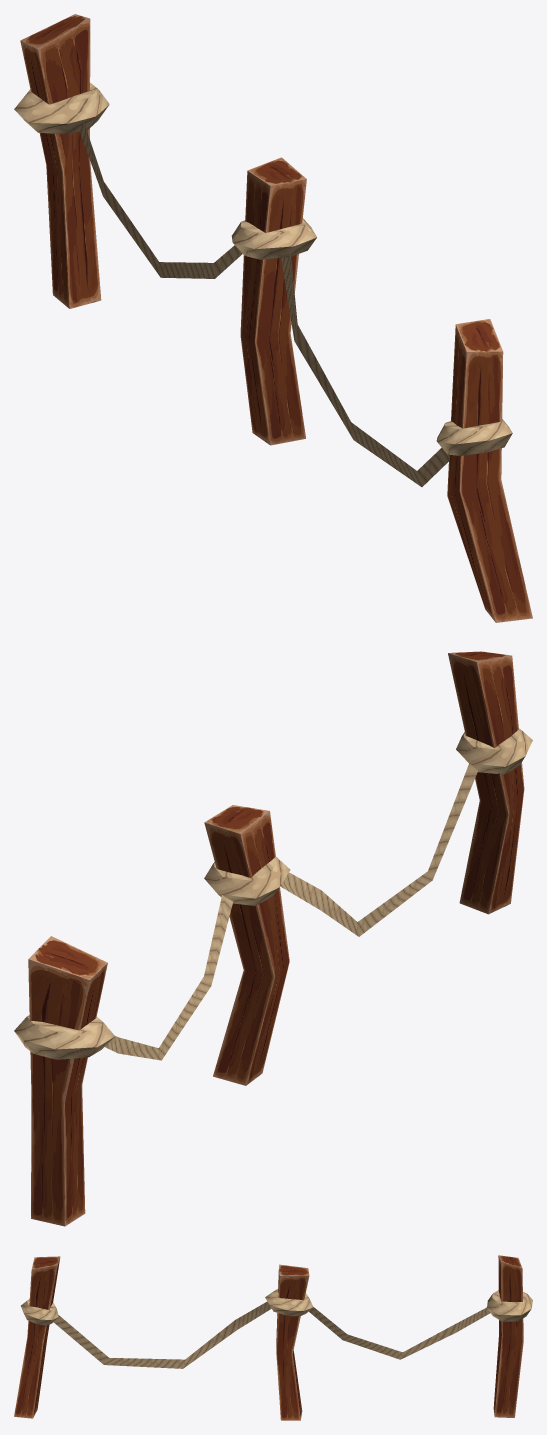
File: SM_PROP_railing_v02_02.fbx
3 renders of one model, top to bottom at view 1: azimuth 30°, elevation 25°; view 2: azimuth 150°, elevation 25°; view 3: azimuth 270°, elevation 25°, orthographic. The views are drawn at different scales.
Parts seen in each view (by area): view 1: SM_PROP_railing_v02_02; view 2: SM_PROP_railing_v02_02; view 3: SM_PROP_railing_v02_02.
Part boxes in pixels (x1,y1,x2,y2): SM_PROP_railing_v02_02: (14,14,532,622); SM_PROP_railing_v02_02: (14,651,532,1226); SM_PROP_railing_v02_02: (14,1255,532,1420).
Size of the model in its own units: 36.98 by 104 by 315.
